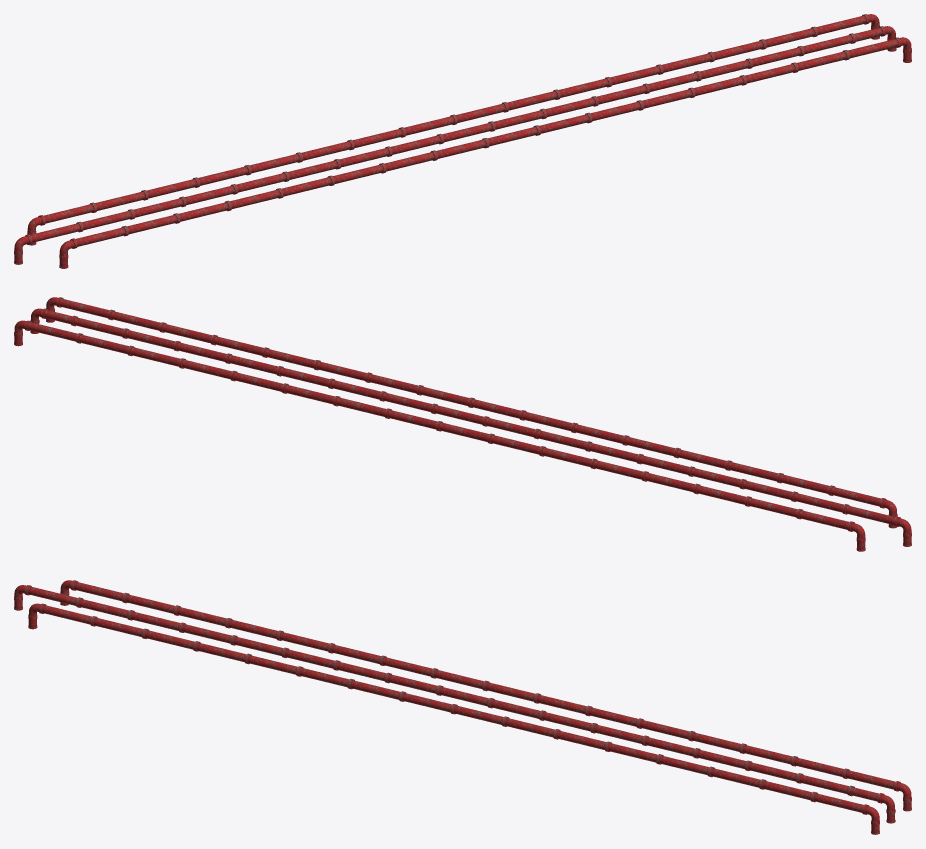
Rendered from Hot work ship pipe.fbx.
3 renders of one model, top to bottom at view 1: azimuth 30°, elevation 25°; view 2: azimuth 150°, elevation 25°; view 3: azimuth 330°, elevation 25°, orthographic.
Parts seen in each view (by area): view 1: Pipe_6.024, Pipe_6.12493; view 2: Pipe_6.024; view 3: Pipe_6.024, Pipe_6.12493.
Boxes of the visible parts, <box> form: Pipe_6.024: <box>14,14,911,268</box>; Pipe_6.12493: <box>32,15,866,243</box>; Pipe_6.024: <box>14,297,911,551</box>; Pipe_6.024: <box>14,580,911,834</box>; Pipe_6.12493: <box>27,581,894,801</box>.
Bounding box in the file's own units: 3615 × 100 × 263.
2 materials, 2 textured.
